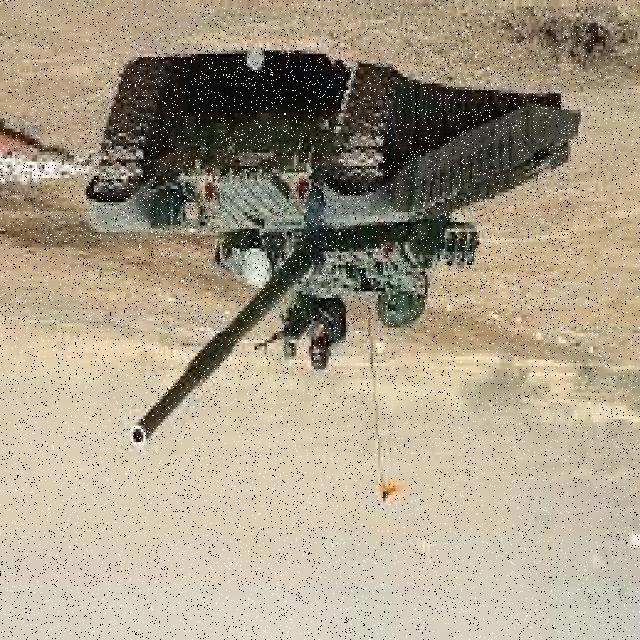MIL_MBT: (83, 46, 579, 331)
